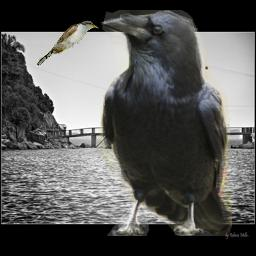Crow: (99, 10, 232, 236)
Cuckoo: (36, 20, 99, 66)
